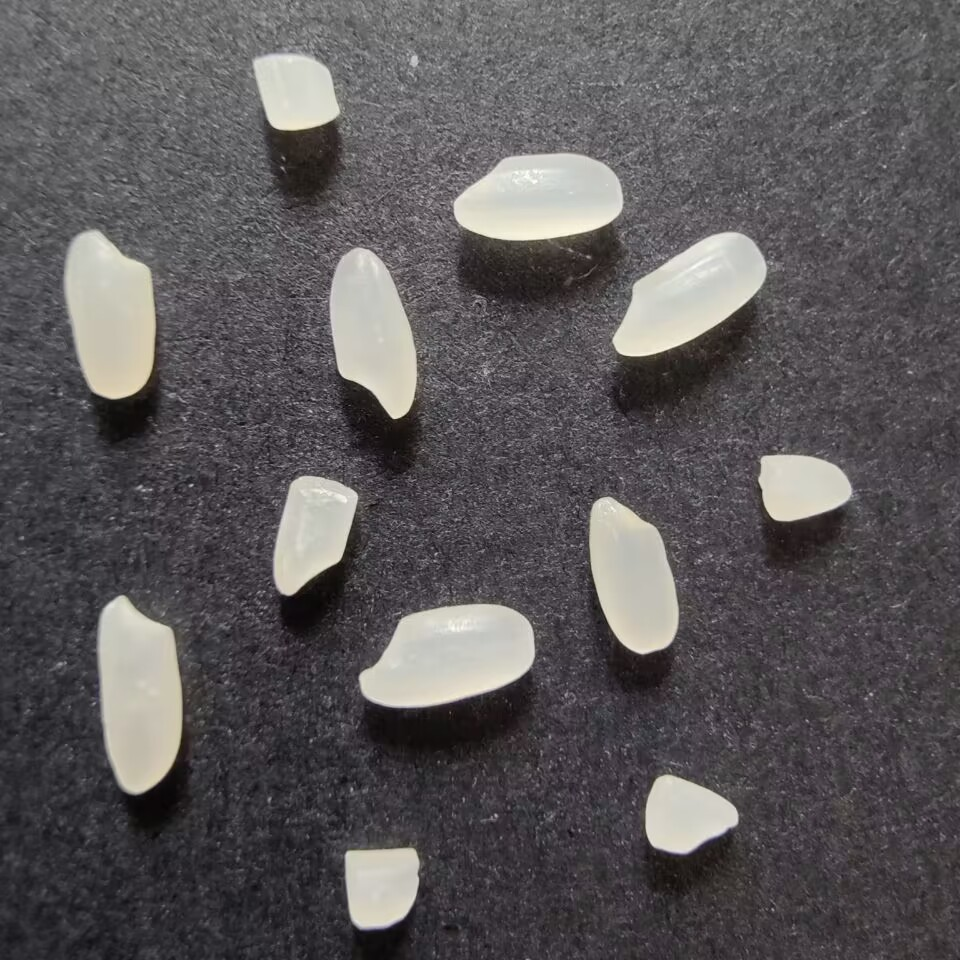broken: (267, 468, 363, 604), (244, 46, 347, 135), (638, 772, 744, 858), (755, 449, 859, 527), (339, 844, 425, 935)
rice: (350, 599, 540, 714), (612, 231, 767, 357), (94, 592, 186, 803), (60, 225, 163, 404), (448, 147, 627, 244), (326, 245, 420, 424), (587, 492, 685, 658)
